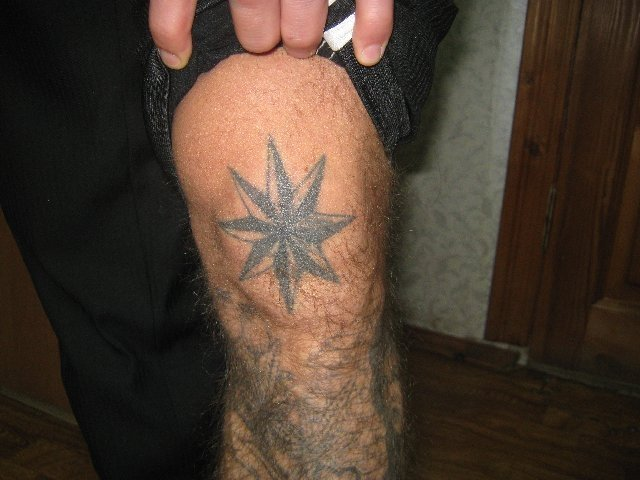tatu4_zvezda: (208, 136, 355, 316)
